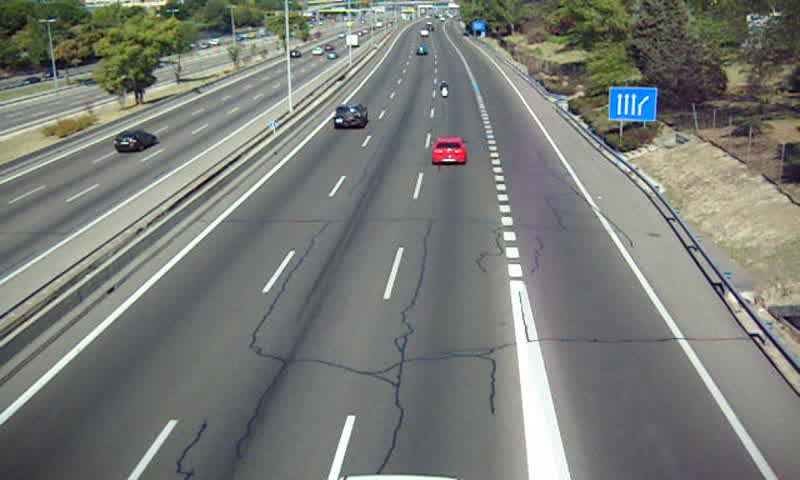car: (431, 138, 468, 166), (332, 104, 368, 128)
motorcycle: (438, 80, 450, 99)
